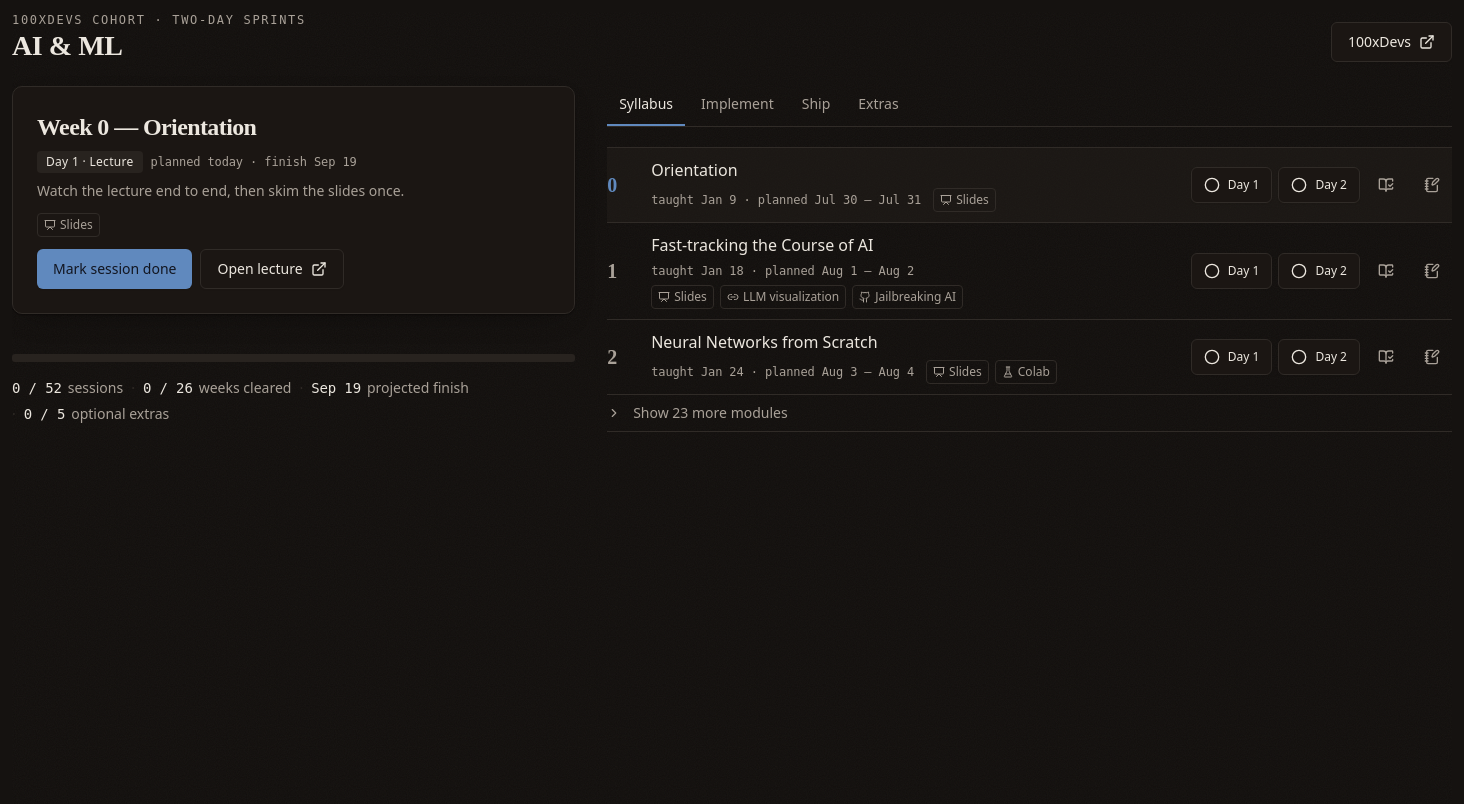
Test: AimlCoursePage › syllabus lists every core week with two session controls each
Press the mouse on the tab "Syllabus": coordinates (646, 106) [607, 86, 685, 126]
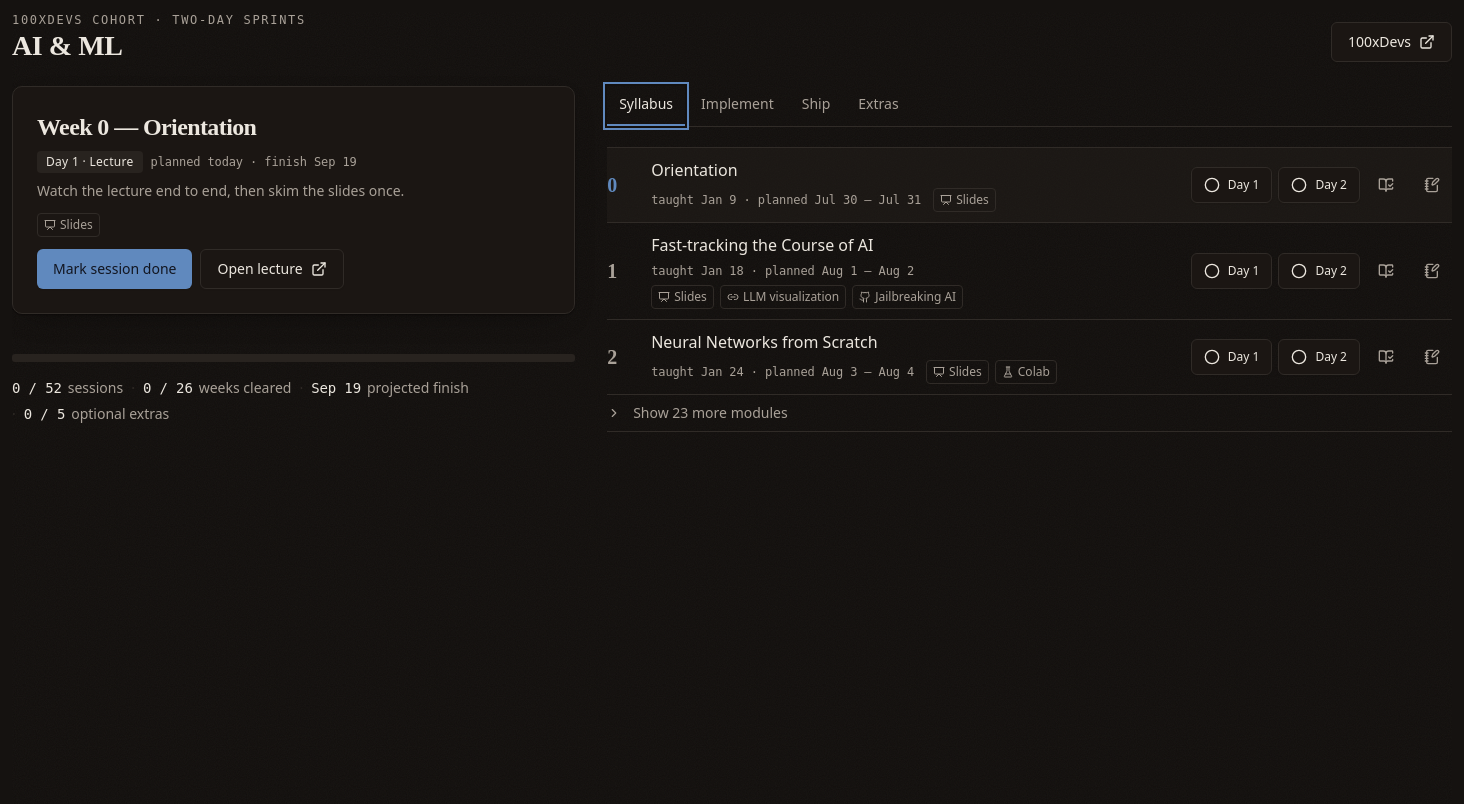
Click the button "Show 23 more modules": coordinates (653, 412) [607, 395, 1452, 431]
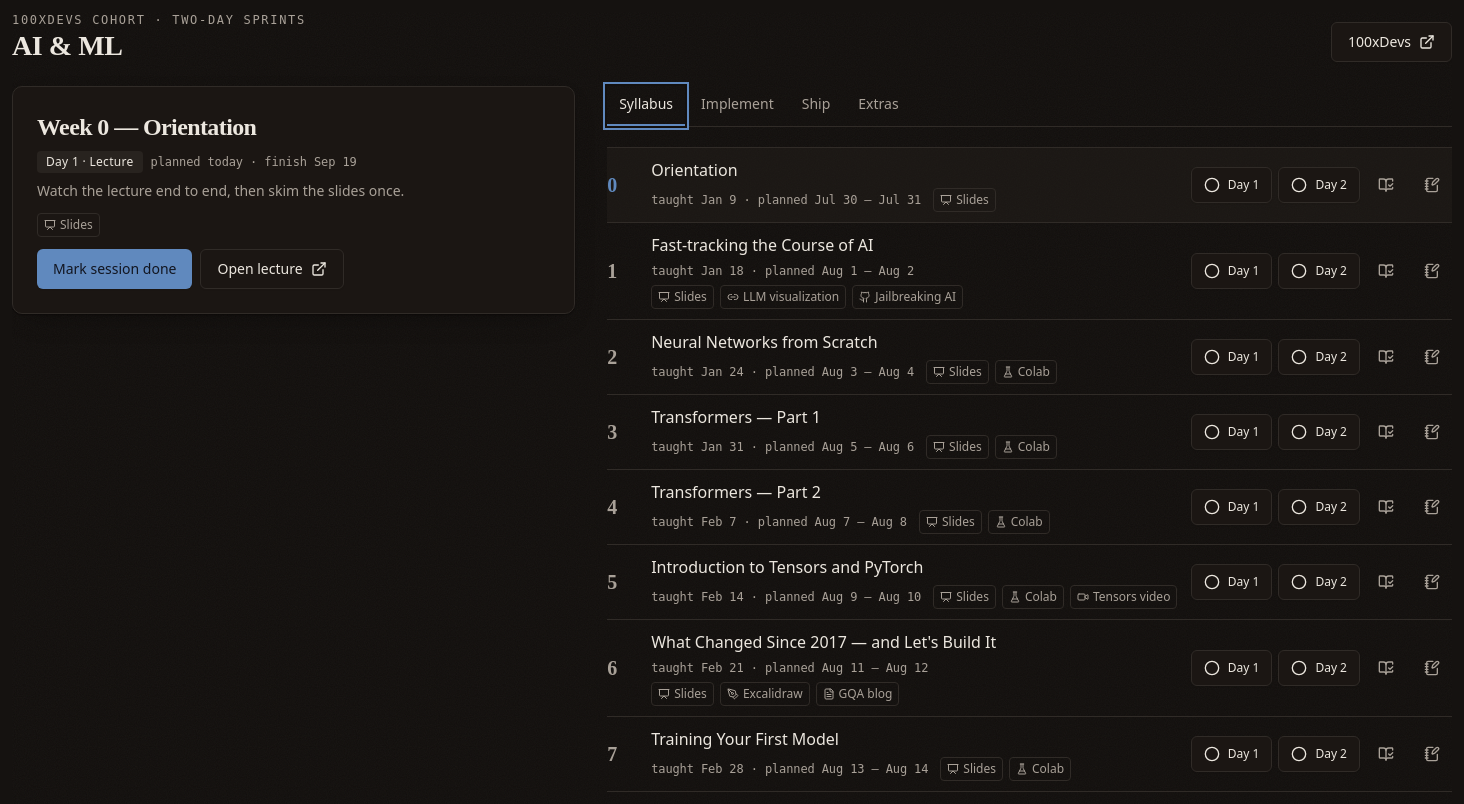
Expected: the text "Transformers — Part 1" is shown, [651, 406, 821, 428]
Expected: the text "Transformers — Part 2" is shown, [651, 481, 821, 503]
Expected: the text "Introduction to Tensors and PyTorch" is shown, [651, 556, 923, 578]
